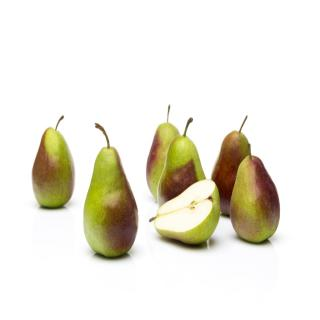Pear: (82, 145, 139, 257), (228, 154, 280, 246), (154, 179, 222, 245), (156, 134, 207, 209), (33, 126, 76, 208), (211, 130, 250, 218), (145, 121, 182, 201)
